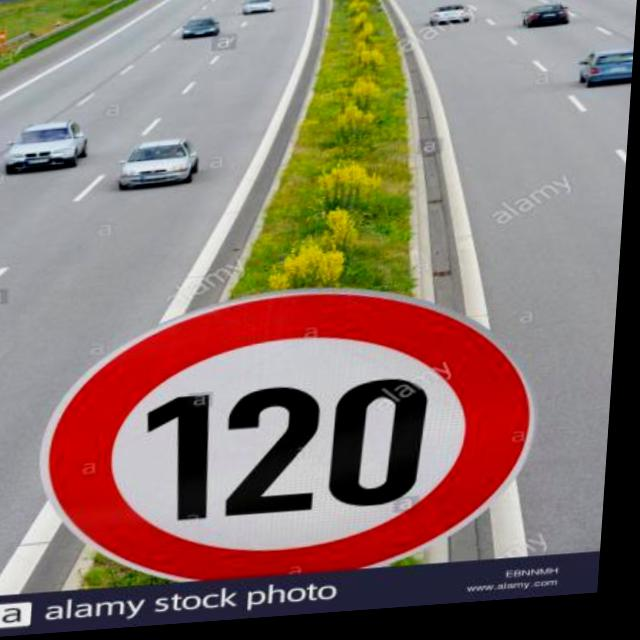limit120: (36, 274, 558, 603)
